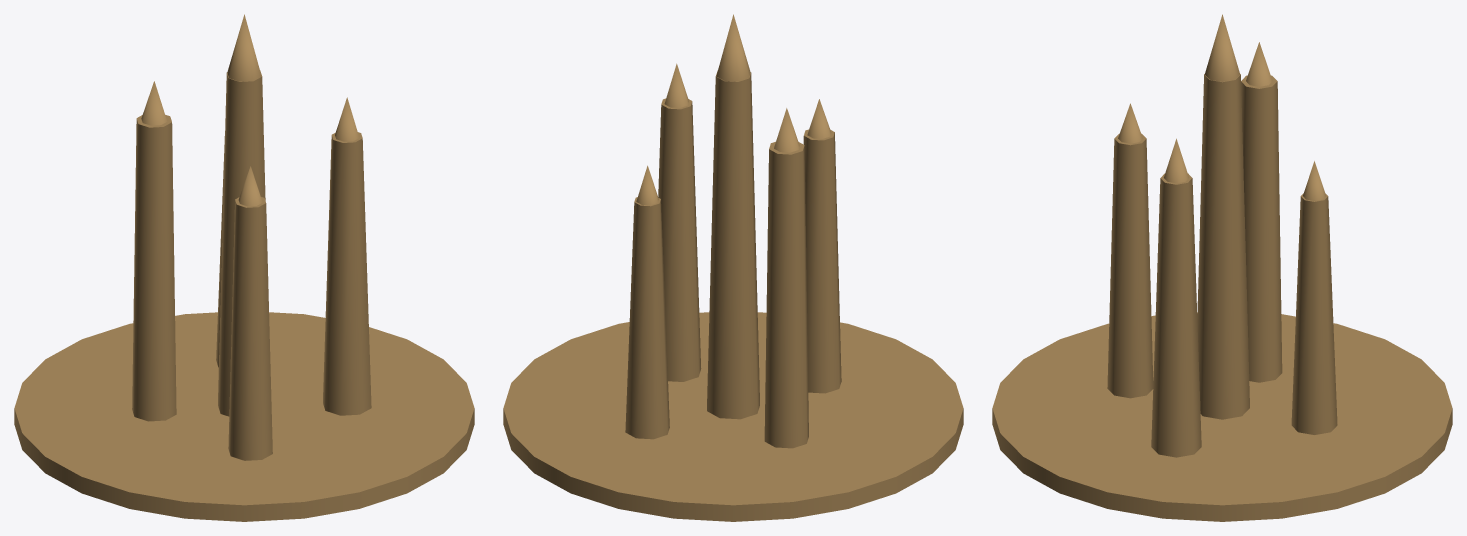
The model's file is 04_coc_bach_dang.glb.
3 views of the same model, side by side, from view 1: azimuth 30°, elevation 25°; view 2: azimuth 150°, elevation 25°; view 3: azimuth 270°, elevation 25° (orthographic).
Visible parts, largest first — view 1: CocGoBachDang; view 2: CocGoBachDang; view 3: CocGoBachDang.
Part boxes in pixels (box(x1,y1,x2,y2)): CocGoBachDang: box(14, 14, 474, 521); CocGoBachDang: box(503, 14, 963, 521); CocGoBachDang: box(992, 14, 1452, 521).
Size of the model in its own units: 1 by 0.985 by 1.
